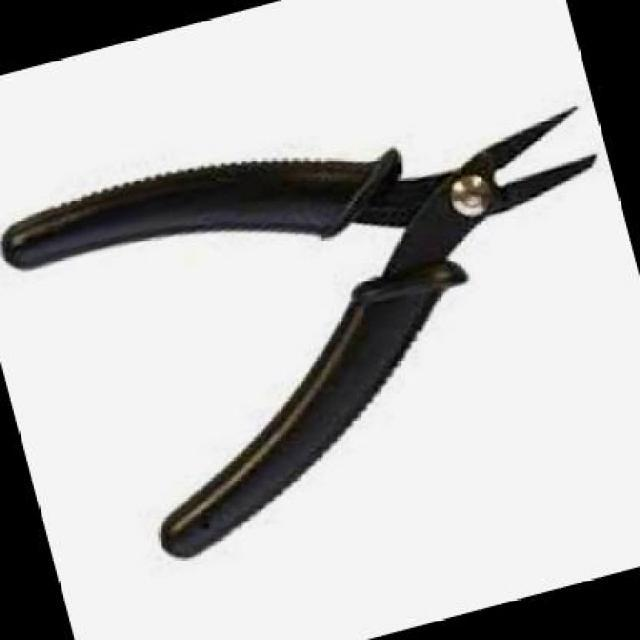pliers: (0, 6, 638, 612)
